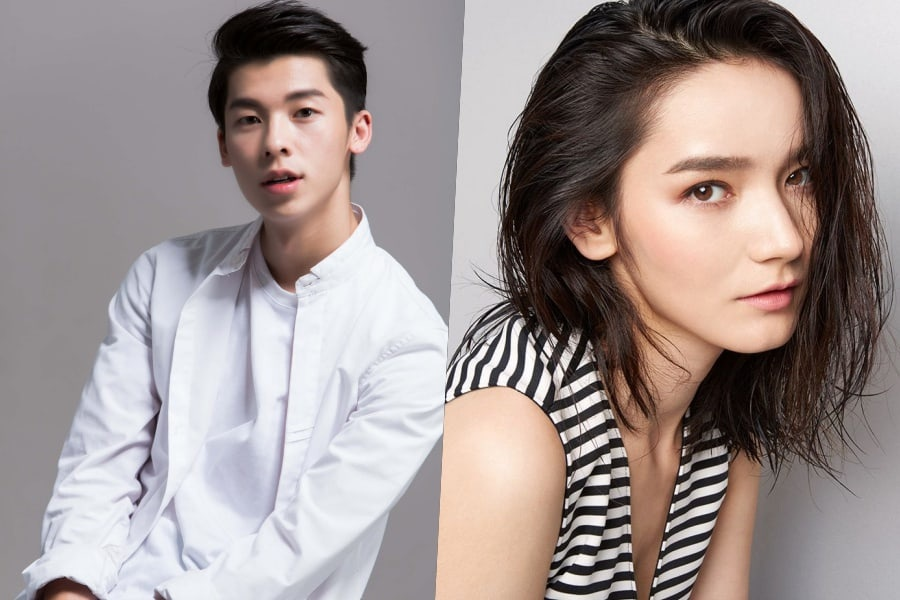bad: (617, 82, 884, 350), (201, 64, 356, 219)
